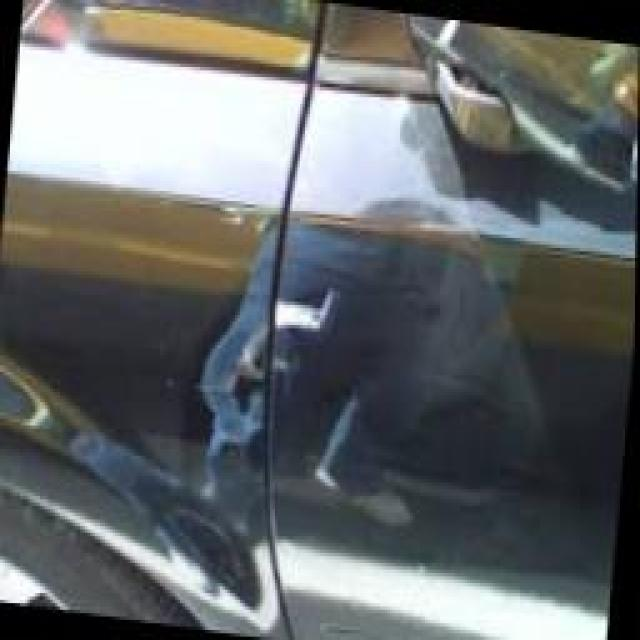Door: (182, 208, 353, 476)
